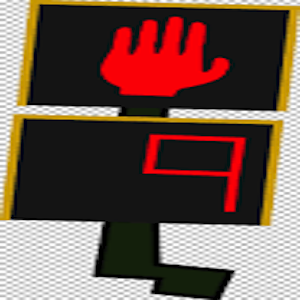red: (100, 10, 217, 101)
